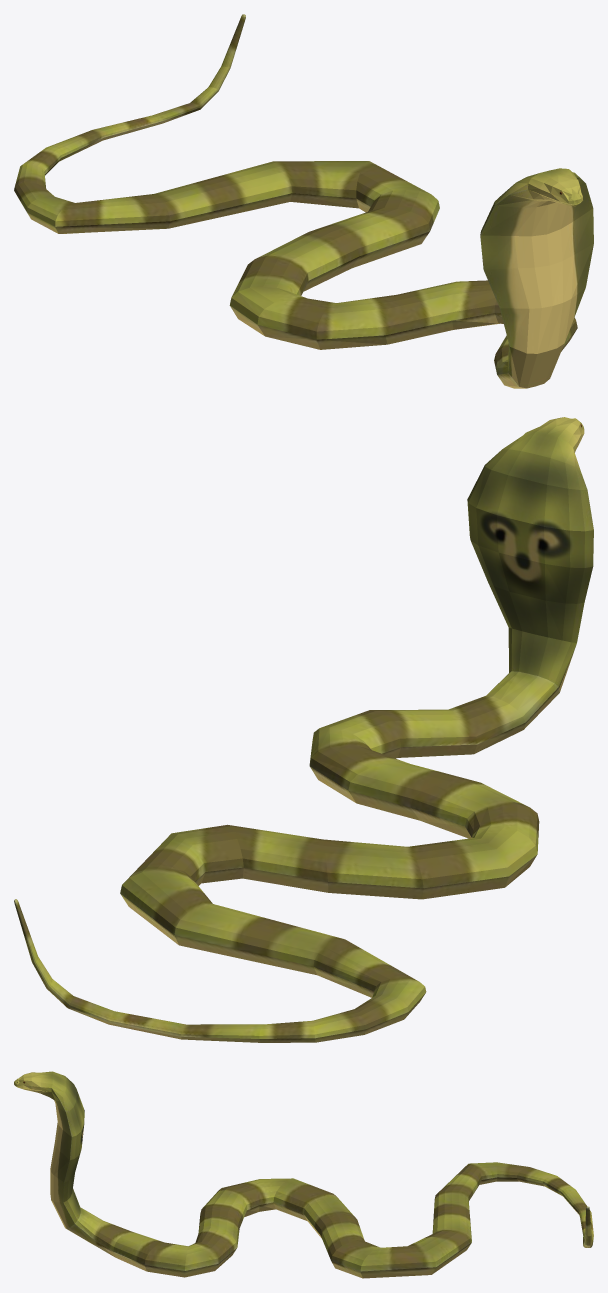
The model's file is serpiente.glb.
The picture shows the model from 3 angles, top to bottom: view 1: azimuth 30°, elevation 25°; view 2: azimuth 150°, elevation 25°; view 3: azimuth 270°, elevation 25°; orthographic projection. The views are drawn at different scales.
Parts seen in each view (by area): view 1: Node; view 2: Node; view 3: Node.
Part boxes in pixels (x1=…): Node: x1=14, y1=14, x2=593, y2=388; Node: x1=14, y1=417, x2=593, y2=1042; Node: x1=14, y1=1071, x2=593, y2=1278.
Size of the model in its own units: 7.22 by 5.5 by 16.82.
Materials: 3 (1 with a texture image).
